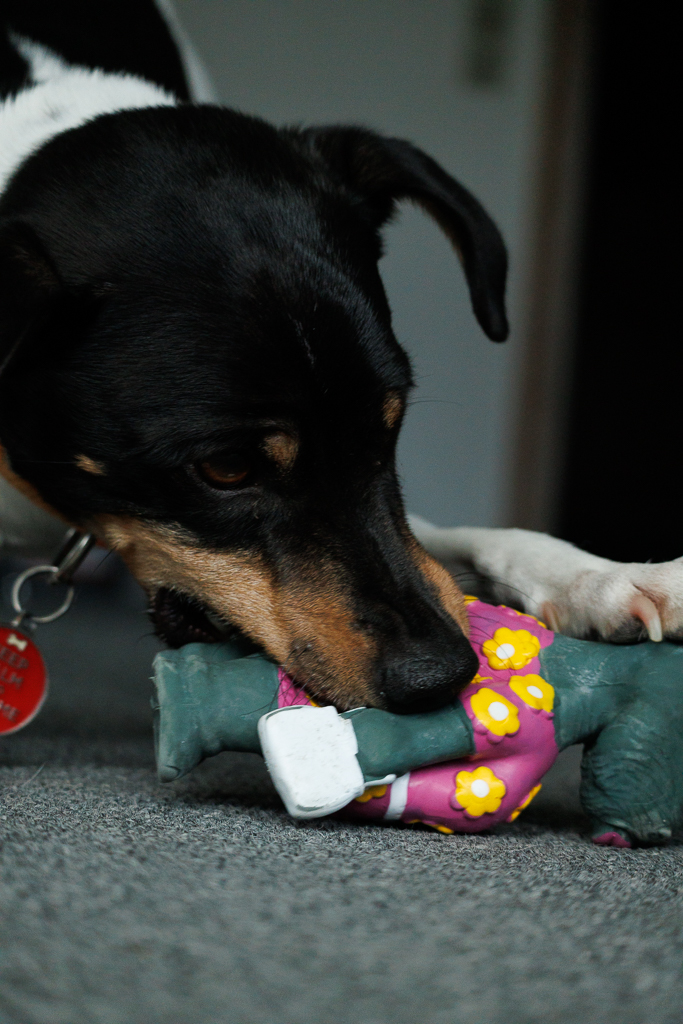Dog: (0, 0, 683, 756)
Humanoid: (138, 564, 683, 861)
